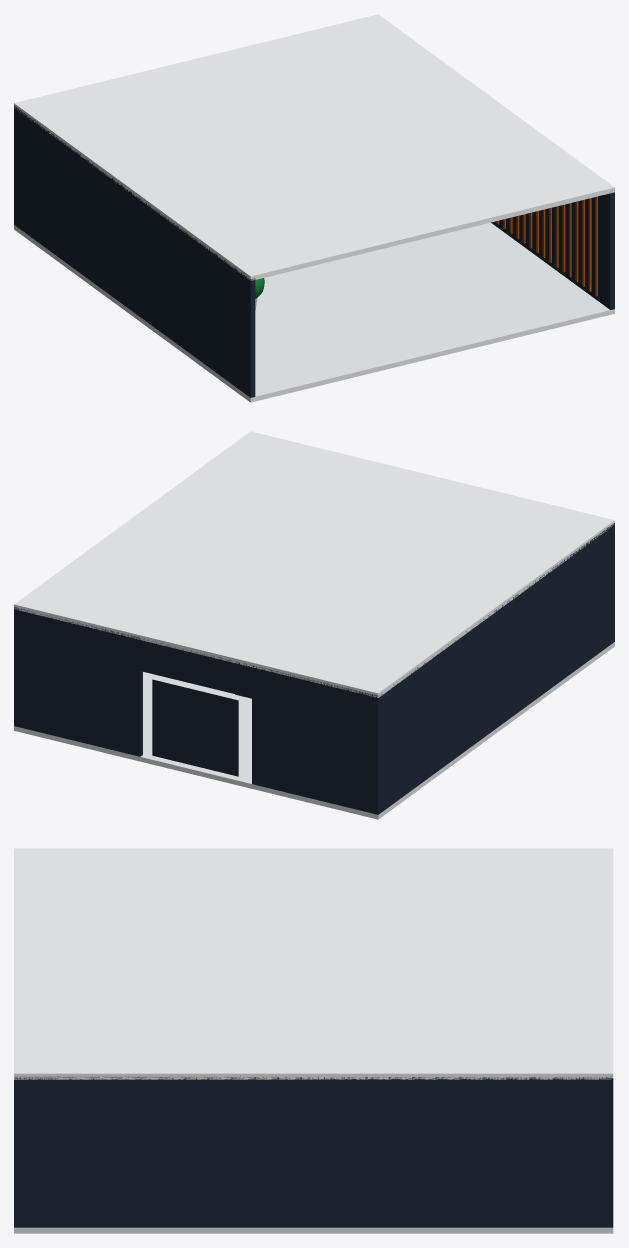
File: lobby.glb
The picture shows the model from 3 angles, top to bottom: view 1: azimuth 30°, elevation 25°; view 2: azimuth 150°, elevation 25°; view 3: azimuth 270°, elevation 25°; orthographic projection. The views are drawn at different scales.
Size of the model in its own units: 16 by 5.3 by 18.05.
